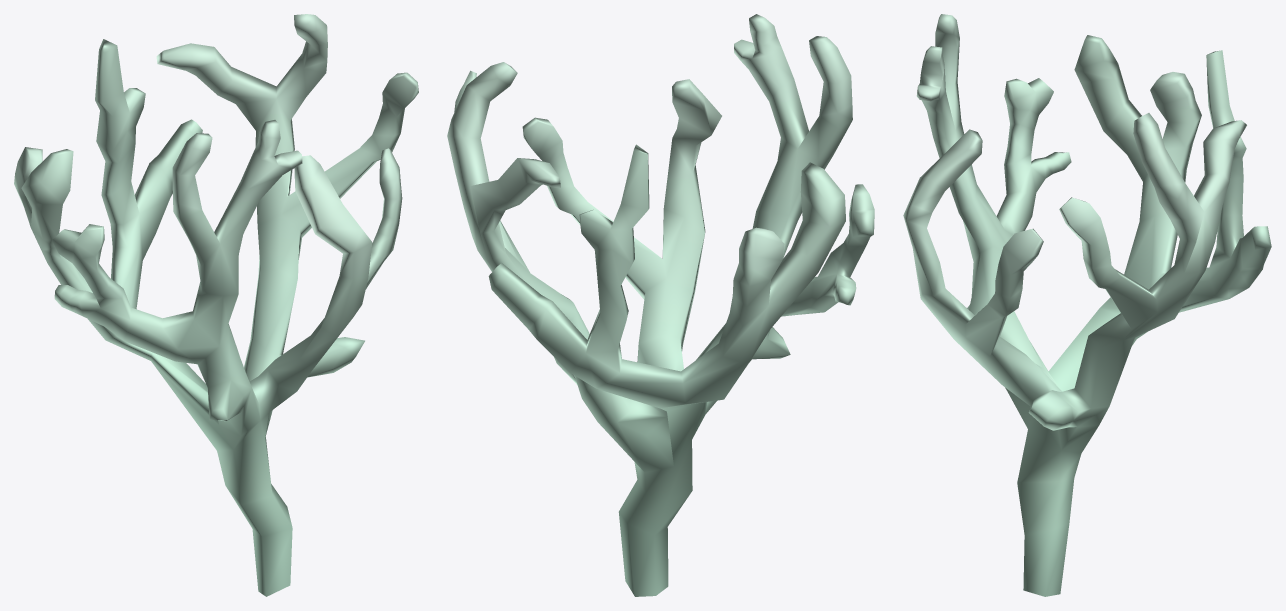
File: CoralNA.fbx
3 renders of one model, left to right at view 1: azimuth 30°, elevation 25°; view 2: azimuth 150°, elevation 25°; view 3: azimuth 270°, elevation 25°, orthographic. The views are drawn at different scales.
Parts seen in each view (by area): view 1: CoralNA; view 2: CoralNA; view 3: CoralNA.
Part boxes in pixels (left/top/right/bottom): CoralNA: left=14, top=14, right=418, bottom=596; CoralNA: left=447, top=14, right=874, bottom=596; CoralNA: left=903, top=14, right=1271, bottom=596.
Bounding box in the file's own units: 61.11 × 80.05 × 51.27.
1 material, 1 textured.
